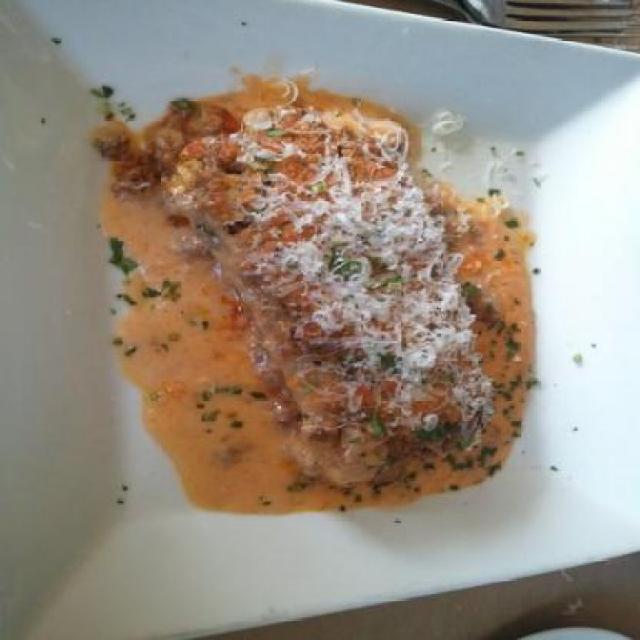Lasagna: (160, 111, 556, 492)
